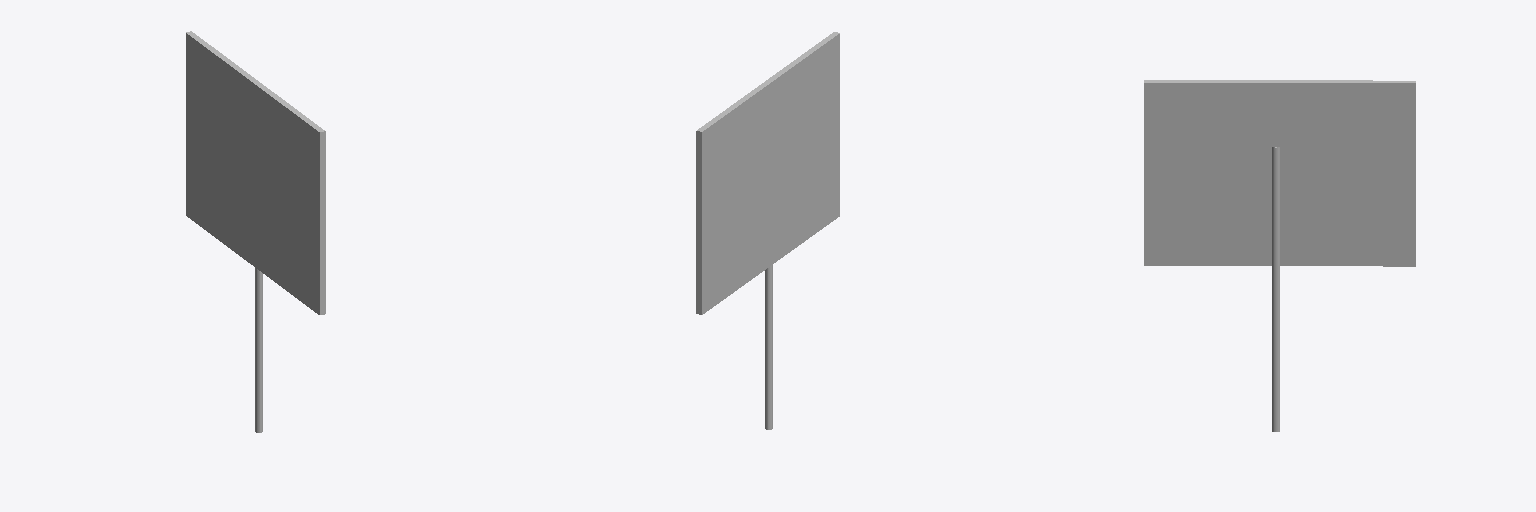
File: board_27.obj
3 views of the same model, side by side, from view 1: azimuth 30°, elevation 25°; view 2: azimuth 150°, elevation 25°; view 3: azimuth 270°, elevation 25° (orthographic).
Parts seen in each view (by area): view 1: Cube.031_Cube.032, Cylinder.031; view 2: Cube.031_Cube.032, Cylinder.031; view 3: Cube.031_Cube.032, Cylinder.031.
Part boxes in pixels (left/top/right/bottom): Cube.031_Cube.032: left=186, top=31, right=325, bottom=314; Cylinder.031: left=255, top=268, right=262, bottom=432; Cube.031_Cube.032: left=696, top=32, right=839, bottom=314; Cylinder.031: left=765, top=265, right=772, bottom=429; Cube.031_Cube.032: left=1144, top=80, right=1415, bottom=266; Cylinder.031: left=1272, top=147, right=1279, bottom=431.
Bounding box in the file's own units: 0.0044 × 0.1717 × 0.1215.